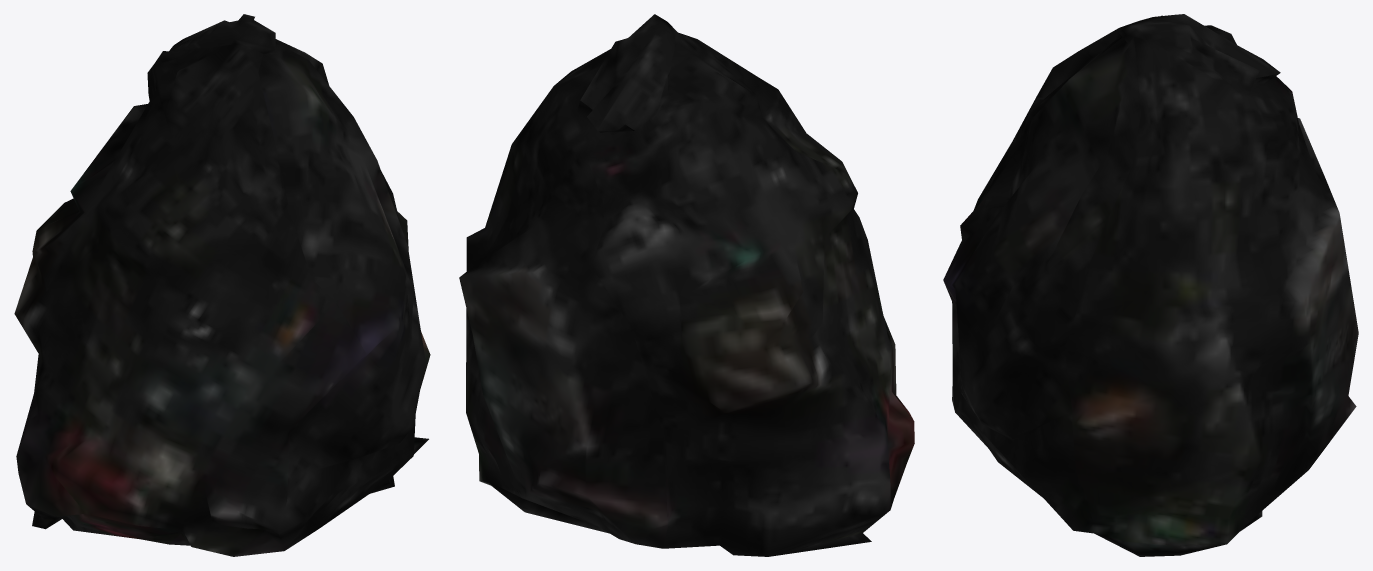
File: trashbag.glb
The picture shows the model from 3 angles, left to right: view 1: azimuth 30°, elevation 25°; view 2: azimuth 150°, elevation 25°; view 3: azimuth 270°, elevation 25°; orthographic projection. The views are drawn at different scales.
Parts seen in each view (by area): view 1: trashbag; view 2: trashbag; view 3: trashbag.
Part boxes in pixels (x1=…): trashbag: x1=14, y1=14, x2=430, y2=556; trashbag: x1=459, y1=14, x2=914, y2=556; trashbag: x1=943, y1=14, x2=1358, y2=556.
Bounding box in the file's own units: 0.5237 × 0.5684 × 0.4629.
Materials: 1 (1 with a texture image).
